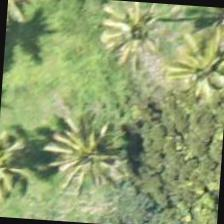Kelapa_Sawit: (48, 97, 144, 193), (96, 0, 192, 86), (91, 0, 187, 74), (157, 15, 223, 111), (0, 119, 57, 214)
